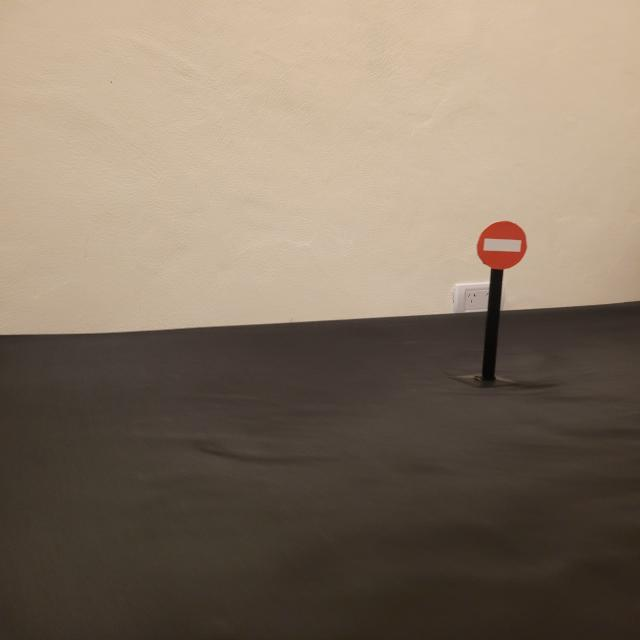no_entry: (476, 219, 529, 271)
